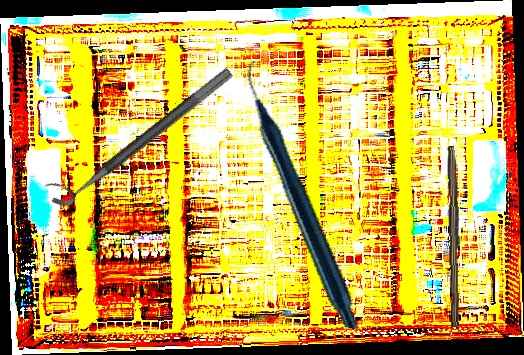Fixation Ring: (41, 52, 235, 214)
Handpiece: (192, 59, 416, 331)
Scalpel Handle: (444, 145, 465, 327)
